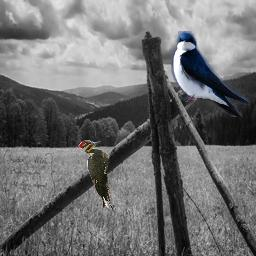Swallow: (171, 31, 249, 117)
Woodpecker: (78, 140, 113, 210)
